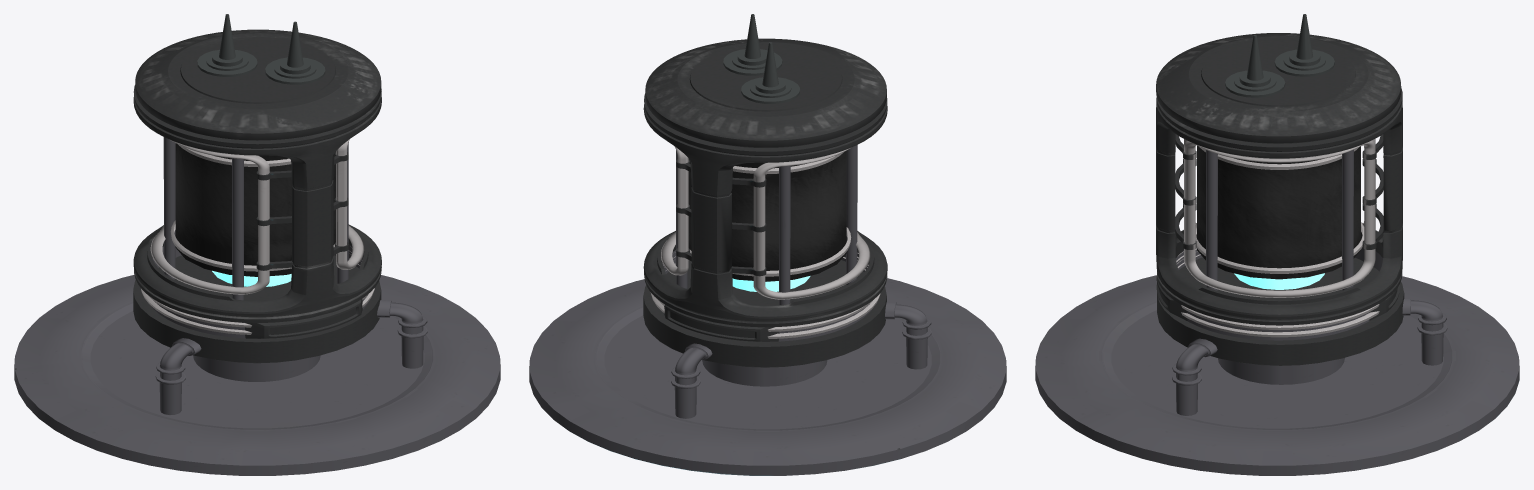
The model's file is capsulas.glb.
The picture shows the model from 3 angles, left to right: view 1: azimuth 30°, elevation 25°; view 2: azimuth 150°, elevation 25°; view 3: azimuth 270°, elevation 25°; orthographic projection.
Parts seen in each view (by area): view 1: Capsula; view 2: Capsula; view 3: Capsula.
Part boxes in pixels (left/top/right/bottom): Capsula: left=14, top=14, right=500, bottom=475; Capsula: left=529, top=14, right=1006, bottom=475; Capsula: left=1035, top=14, right=1519, bottom=475.
Bounding box in the file's own units: 2.5 × 2 × 2.5.
Materials: 1 (1 with a texture image).
